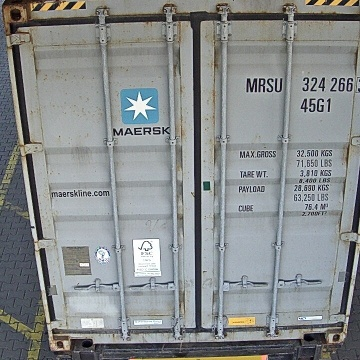serial_id: (246, 77, 360, 92)
